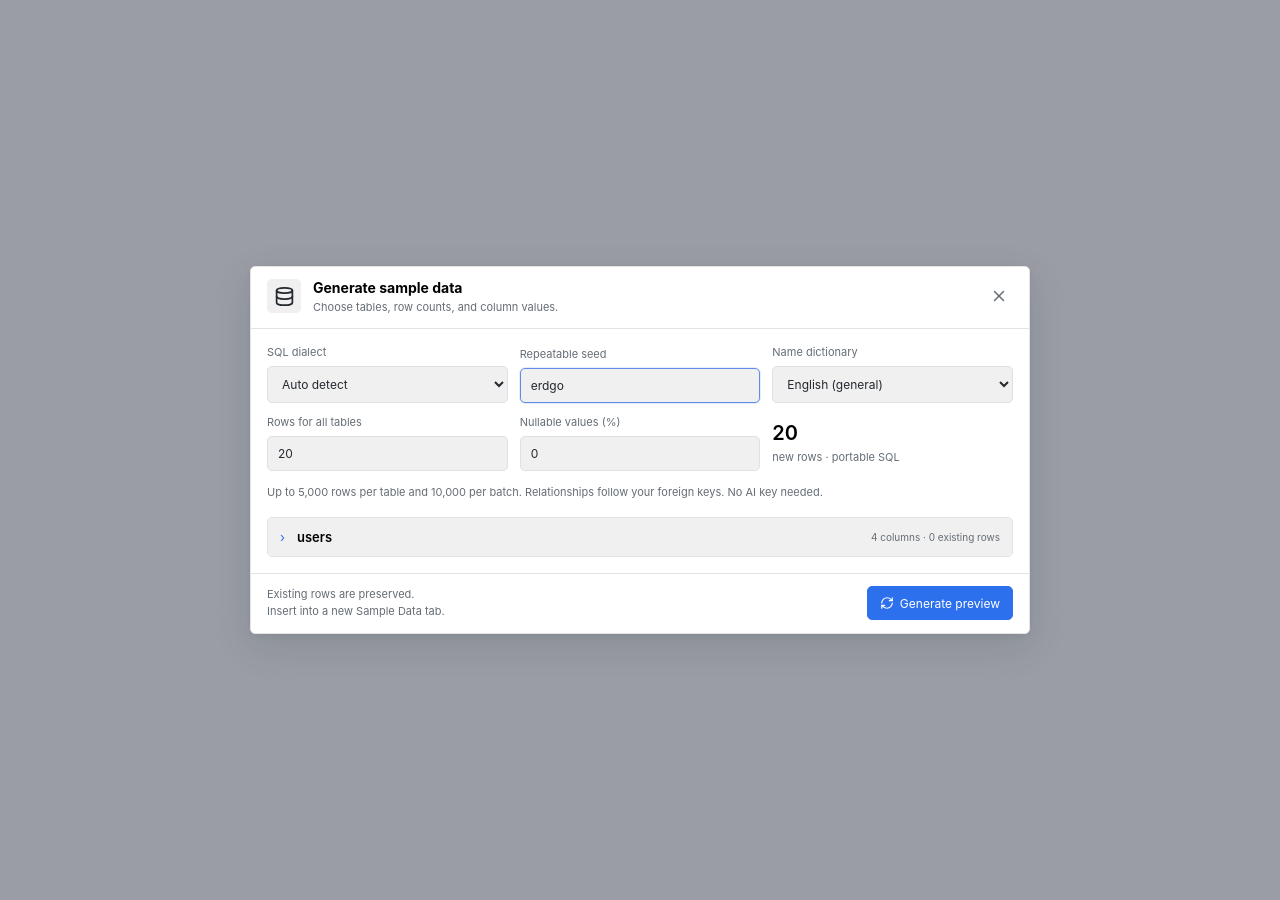
Test: sample data workbench › invalidates generated results when settings change and shows stale-insert feedback
Click the button "Generate preview" at (940, 603), box top-left (867, 586), bottom-right (1013, 620)
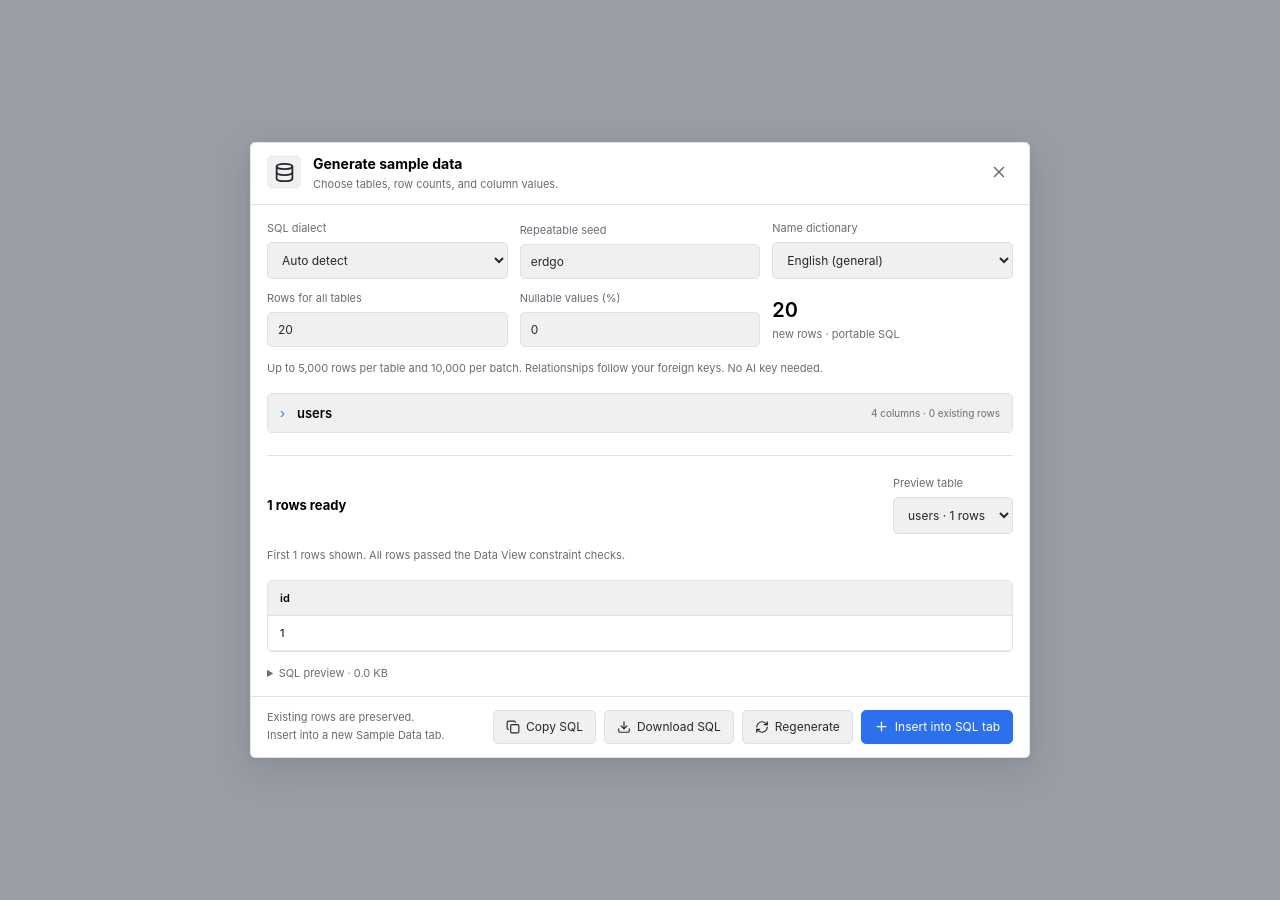
Click the button "Insert into SQL tab" at (937, 727), box top-left (861, 710), bottom-right (1013, 744)
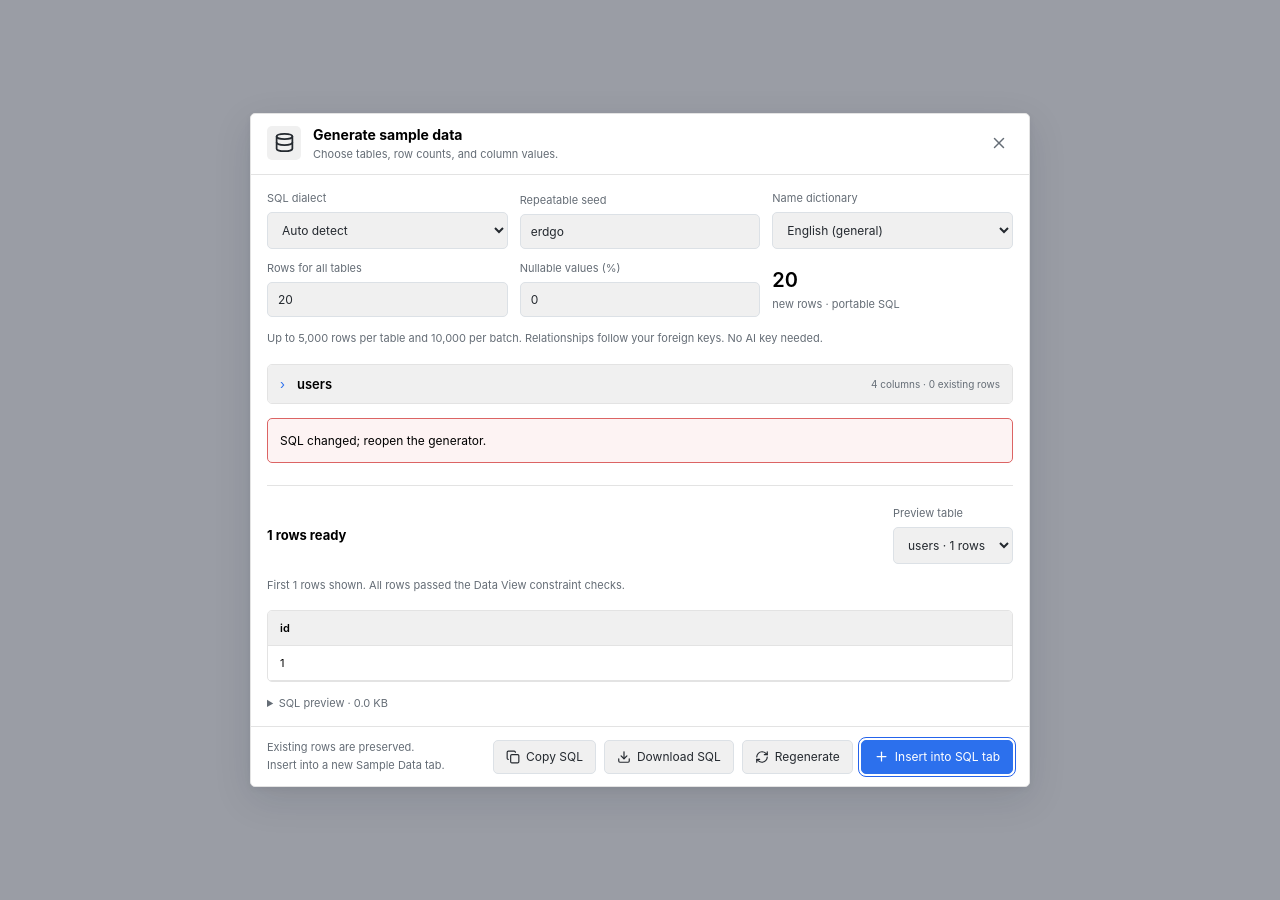
Expected: the message shows "SQL changed", top-left (280, 433), bottom-right (486, 448)
Replace the text in the field labelled "Repeatable seed" with "new seed" at (640, 232), box top-left (520, 214), bottom-right (760, 250)
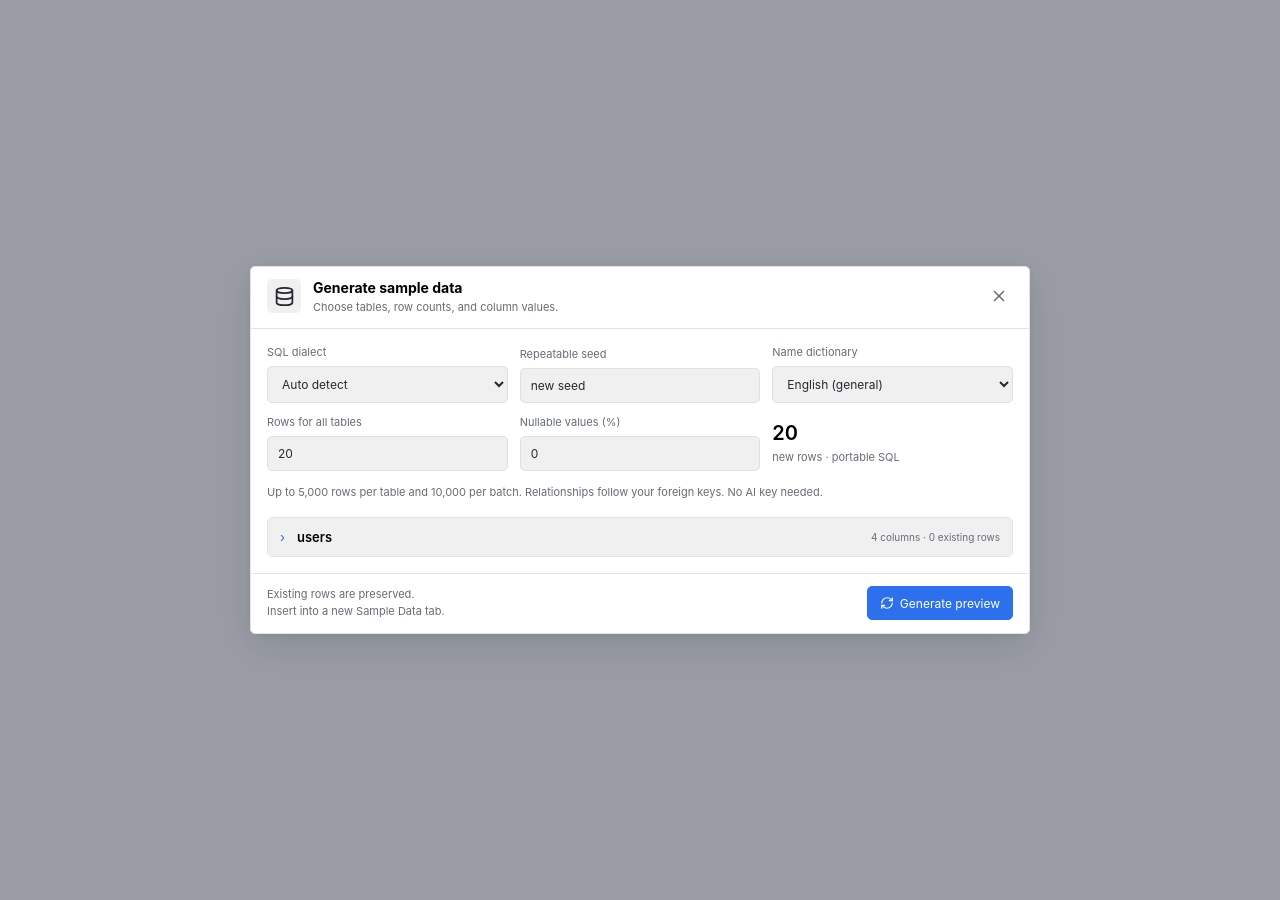
Expected: the button "Insert into SQL tab" is gone
